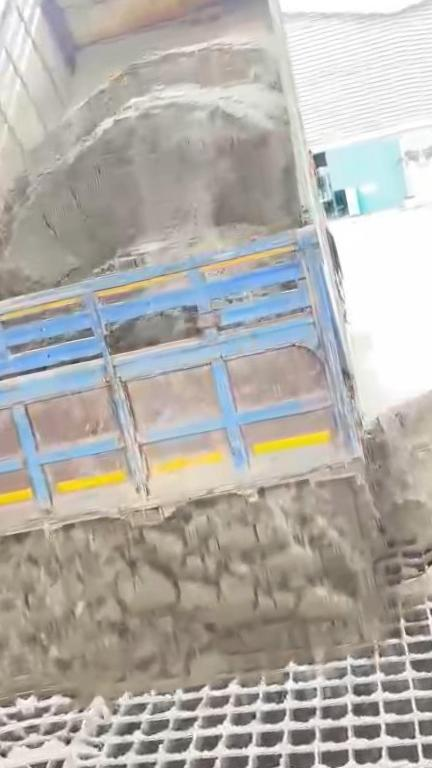sand: (0, 480, 383, 697), (0, 41, 301, 296), (369, 384, 432, 590)
